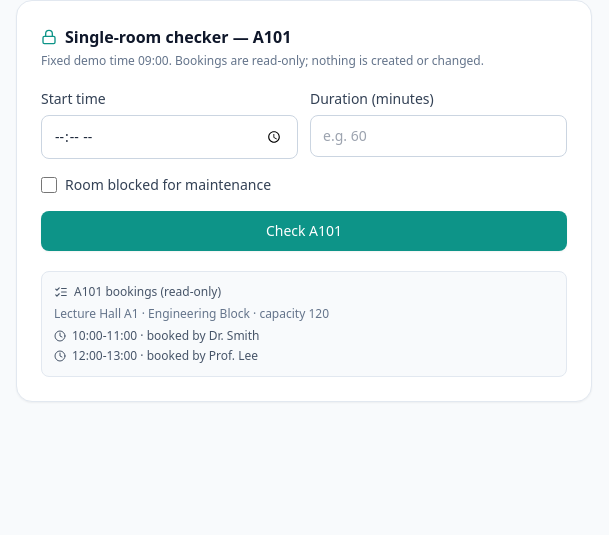
Test: ContractChecker UI › T4 through the form: duration 0 shows the INVALID_DURATION message
The width and height of the screenshot is (609, 535).
Type "13:30" into the time field labelled "Start time" at {"x": 170, "y": 137}, box [41,115,298,159]
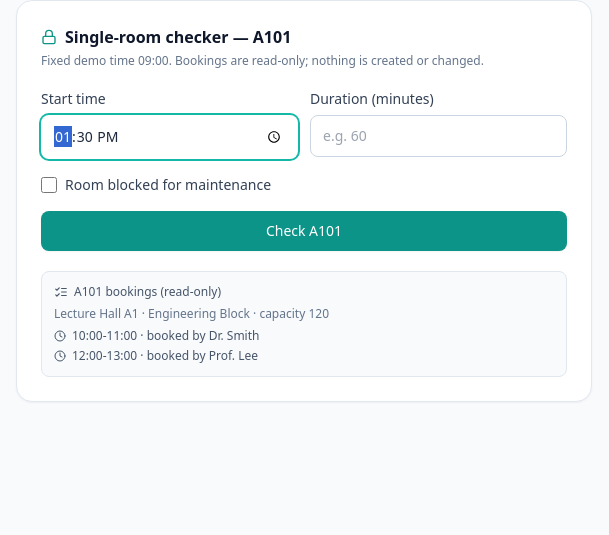
Type "0" into the number field labelled "Duration (minutes)" at {"x": 438, "y": 136}, box [310,115,567,157]
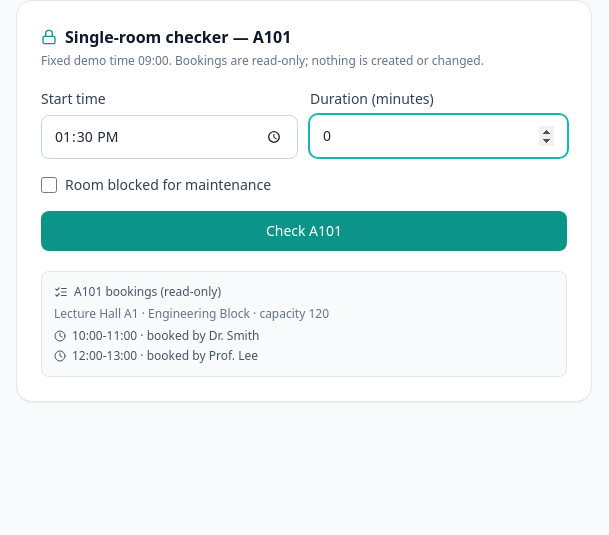
Click the button "Check A101" at {"x": 304, "y": 231}, box [41,211,567,251]
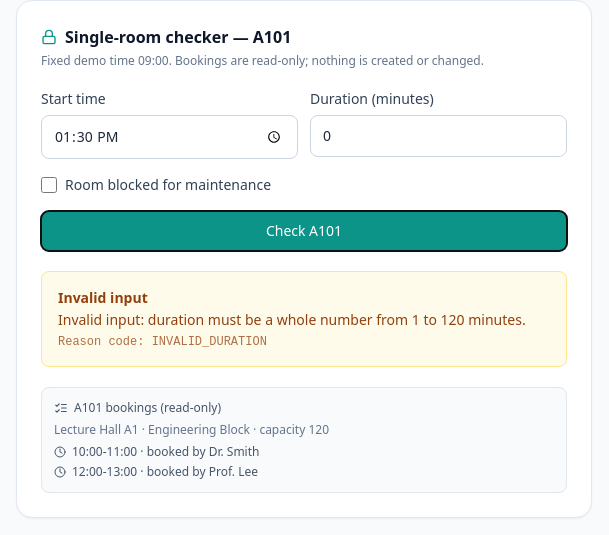
Expected: the text "Invalid input: duration must be a whole number from 1 to 120 minutes." is shown, [58,310,550,330]
Expected: the text "Reason code: INVALID_DURATION" is shown, [58,335,267,349]
